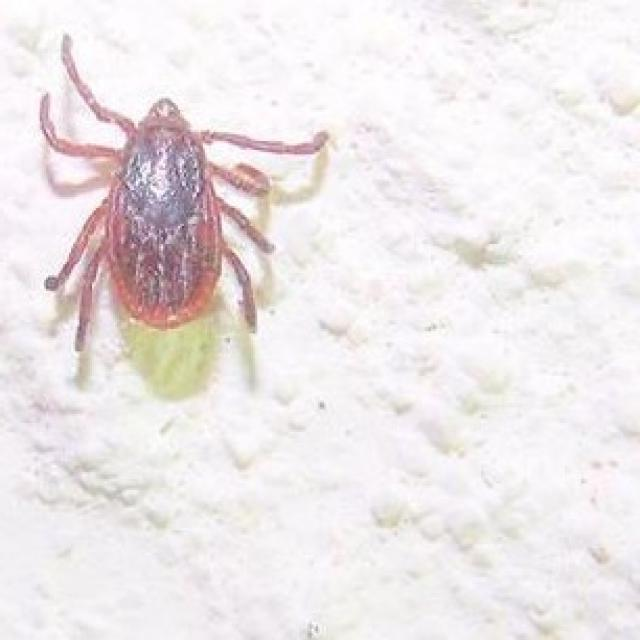Rhipicephalus Sanguineus-F: (38, 34, 328, 365)
